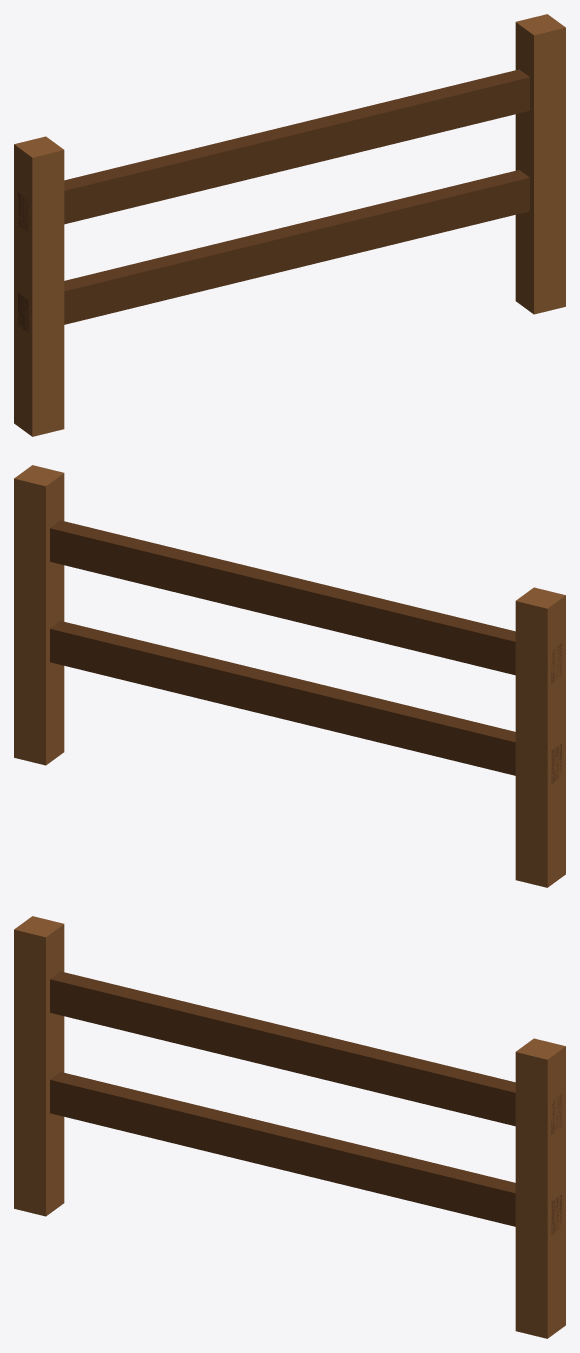
File: fence.glb
The picture shows the model from 3 angles, top to bottom: view 1: azimuth 30°, elevation 25°; view 2: azimuth 150°, elevation 25°; view 3: azimuth 330°, elevation 25°; orthographic projection.
Visible parts, largest first — view 1: fence; view 2: fence; view 3: fence.
Boxes of the visible parts, bbox=[...] form: fence: bbox=[14, 14, 565, 436]; fence: bbox=[14, 465, 565, 887]; fence: bbox=[14, 916, 565, 1338].
Size of the model in its own units: 2 by 1 by 0.12.
